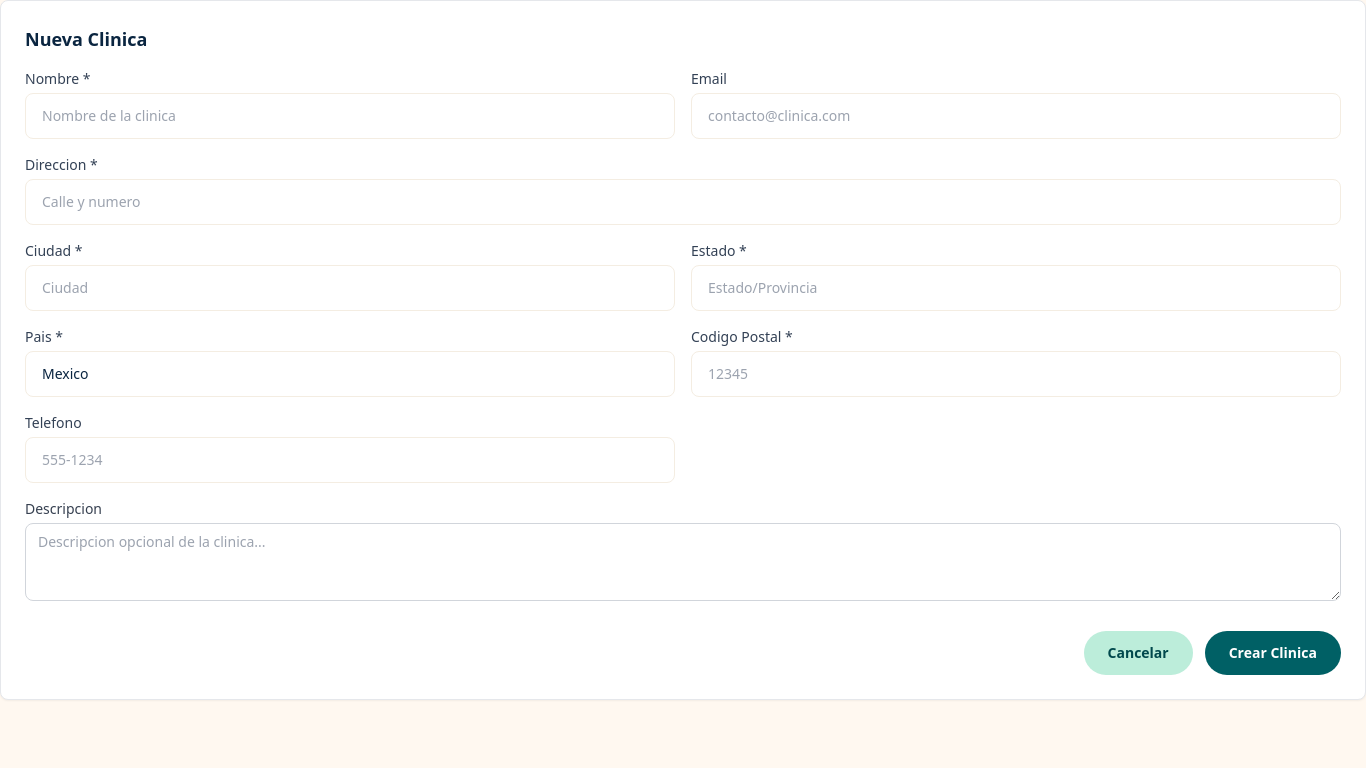
Test case: ClinicForm › muestra errores de validacion cuando campos estan vacios
The image size is (1366, 768).
Step 1. Click the button "Crear Clinica" → {"x": 1273, "y": 653}, box left=1205, top=631, right=1341, bottom=675
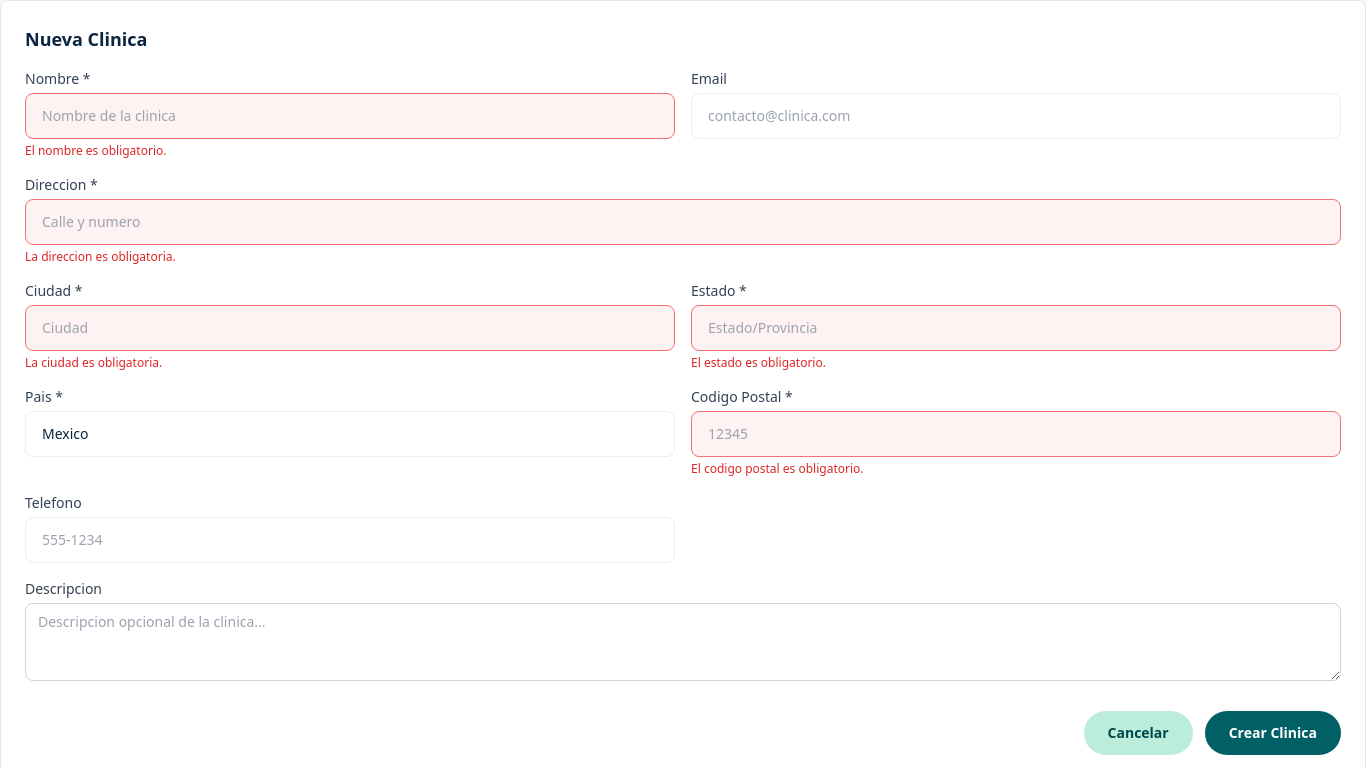
Now the text "El nombre es obligatorio." is shown, box left=25, top=142, right=166, bottom=159
Now the text "La direccion es obligatoria." is shown, box left=25, top=248, right=176, bottom=265
